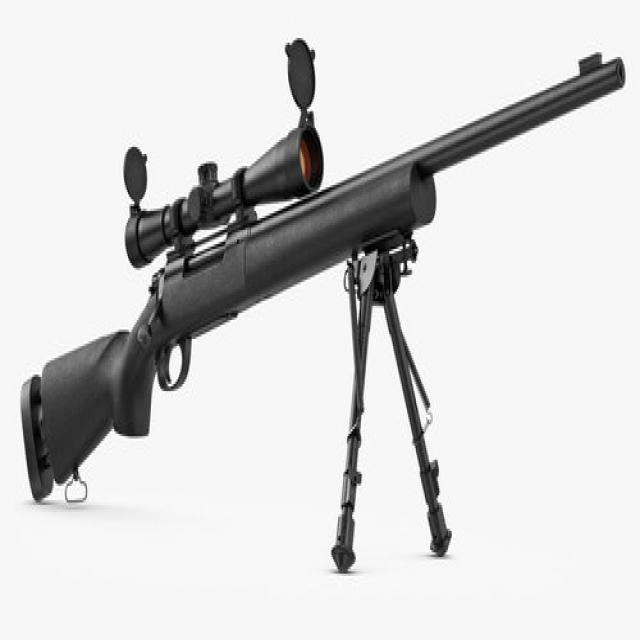rifle: (10, 29, 627, 562)
